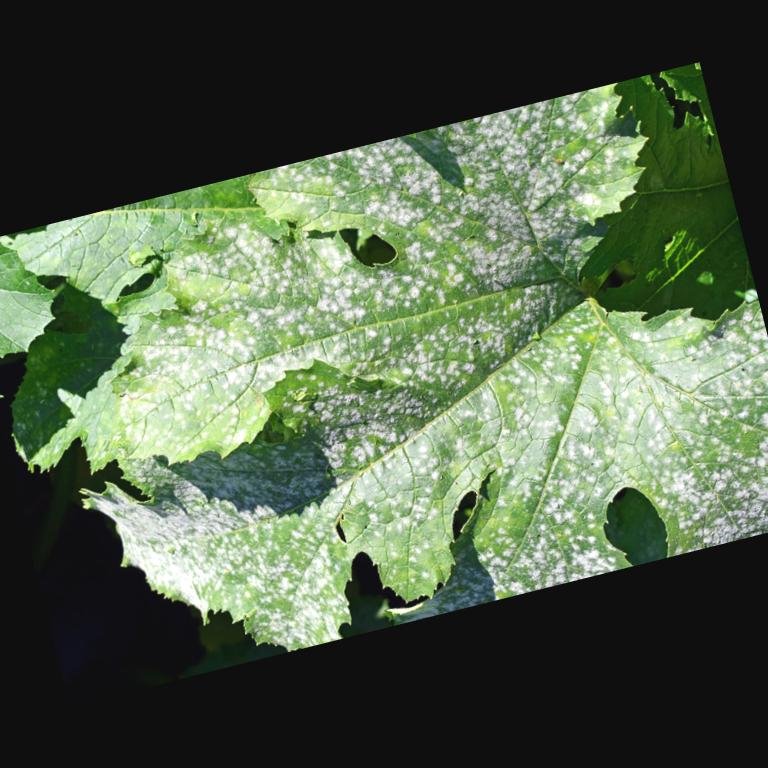powdery-mildew: (282, 300, 486, 450), (653, 403, 768, 553), (460, 108, 580, 249)
